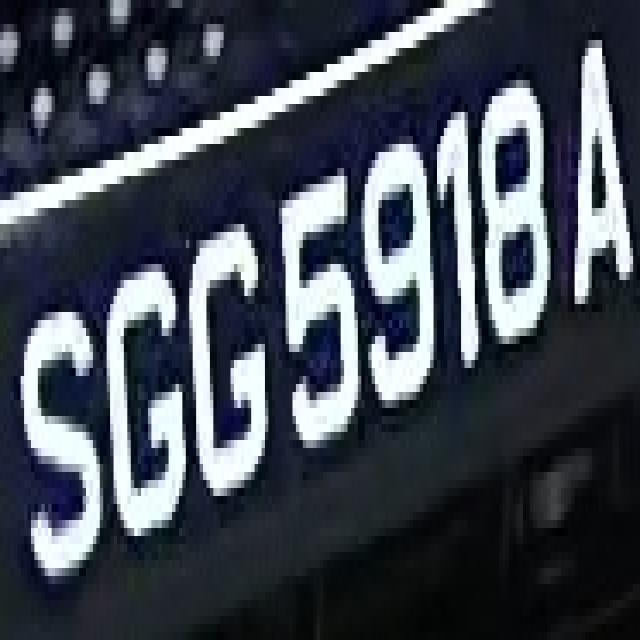1: (434, 72, 488, 392)
5: (275, 168, 368, 472)
8: (468, 48, 561, 368)
9: (354, 112, 444, 432)
A: (557, 16, 640, 328)
G: (90, 224, 192, 552), (182, 184, 279, 512)
S: (10, 264, 100, 584)
